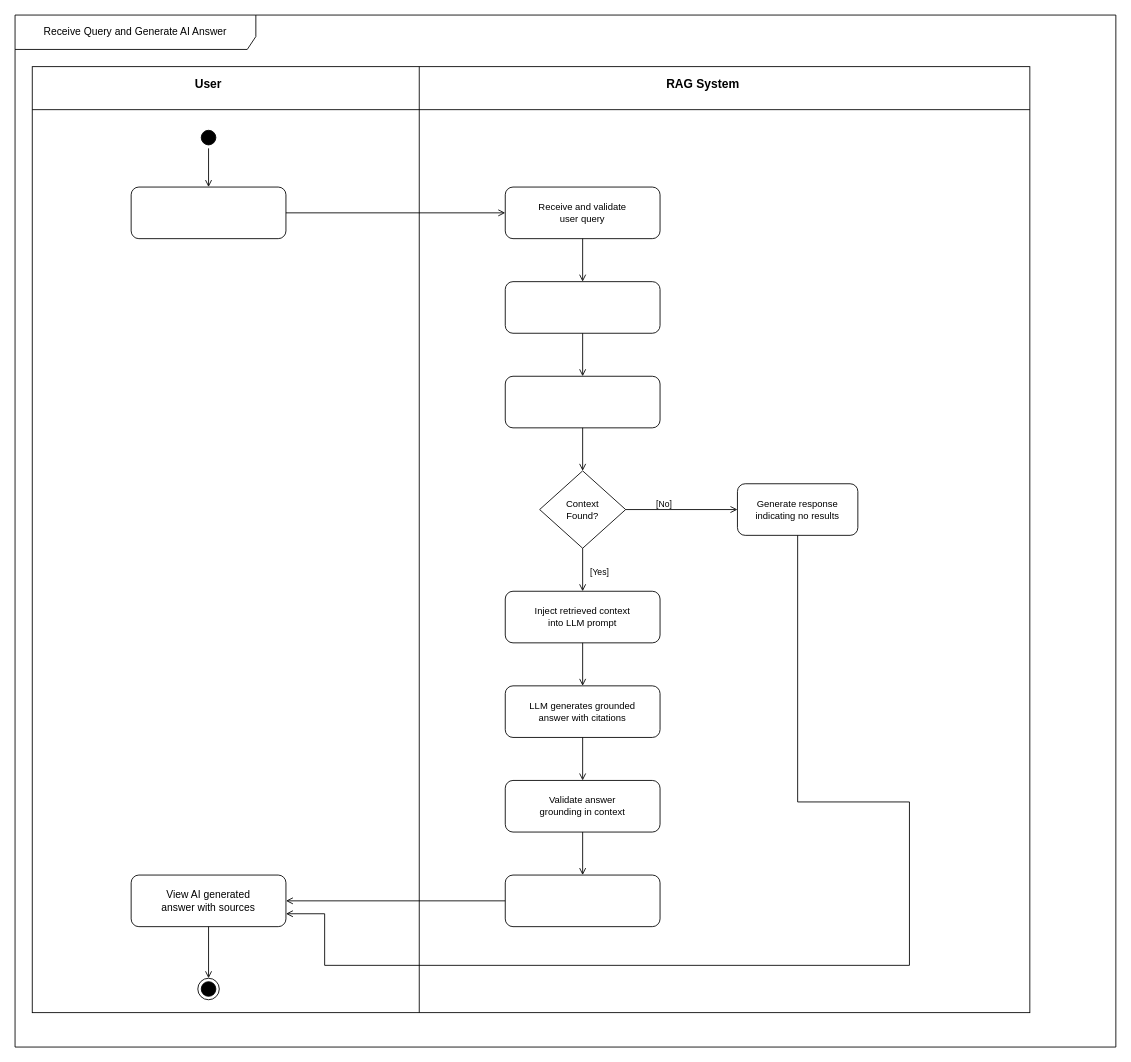
Some shapes in this 1131 by 1062 pixel diagram are drawn without their labels. Here are the shapes that lost their labels. From the top down, the centre of each, then its label:
the point at 208,212: Submit search query in chat interface
the point at 582,307: Trigger hybrid retrieval process
the point at 582,401: Retrieve top ranked document chunks
the point at 582,900: Stream response with inline citations
